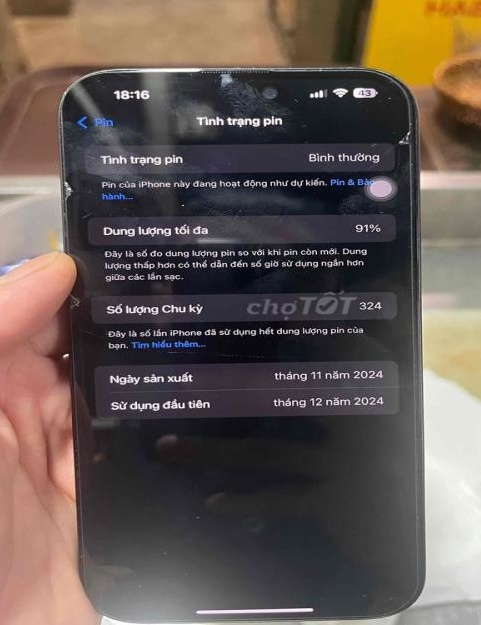scratch: (355, 585, 405, 604), (190, 511, 214, 530), (124, 581, 148, 592)
screen_defect: (54, 168, 88, 240), (390, 116, 424, 162), (63, 286, 86, 319)
